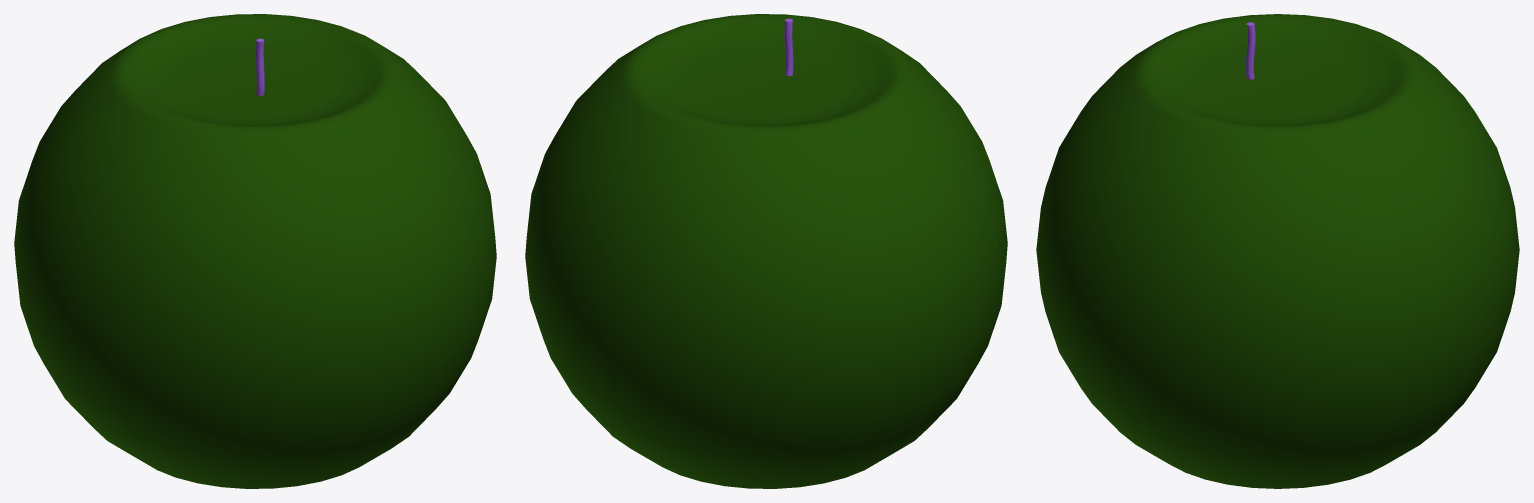
Rendered from Candle_Style2.fbx.
3 views of the same model, side by side, from view 1: azimuth 30°, elevation 25°; view 2: azimuth 150°, elevation 25°; view 3: azimuth 270°, elevation 25° (orthographic).
Parts seen in each view (by area): view 1: Bougie_ronde_neuve; view 2: Bougie_ronde_neuve; view 3: Bougie_ronde_neuve.
Part boxes in pixels (x1,y1,x2,y2): Bougie_ronde_neuve: [14, 14, 496, 488]; Bougie_ronde_neuve: [525, 14, 1007, 488]; Bougie_ronde_neuve: [1036, 14, 1519, 488].
Bounding box in the file's own units: 2.76 × 2.55 × 2.76.
